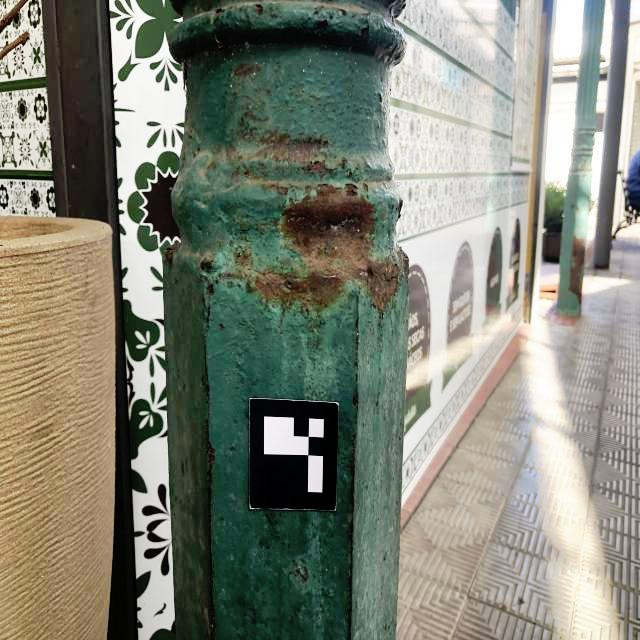Corrosion: (253, 182, 399, 321), (246, 132, 334, 179), (205, 418, 217, 537), (568, 236, 585, 307), (217, 248, 254, 280), (349, 445, 355, 513), (225, 143, 243, 162), (400, 249, 409, 284), (235, 62, 259, 74), (238, 125, 257, 140), (232, 165, 242, 192), (166, 244, 180, 262), (200, 257, 213, 273), (210, 605, 216, 638), (355, 318, 360, 356), (240, 113, 256, 124), (297, 568, 308, 581), (359, 25, 369, 38), (255, 222, 269, 231), (277, 186, 290, 195), (206, 162, 216, 172), (253, 5, 264, 14), (580, 159, 588, 171), (208, 283, 216, 295), (318, 19, 328, 28), (338, 7, 347, 16), (243, 170, 253, 178), (215, 8, 223, 18), (353, 395, 358, 406), (595, 265, 608, 269), (269, 183, 276, 190), (342, 159, 346, 169), (260, 163, 266, 169), (348, 169, 353, 176), (364, 184, 368, 192), (219, 323, 223, 329), (582, 173, 587, 176), (269, 6, 272, 10), (577, 207, 579, 210)
